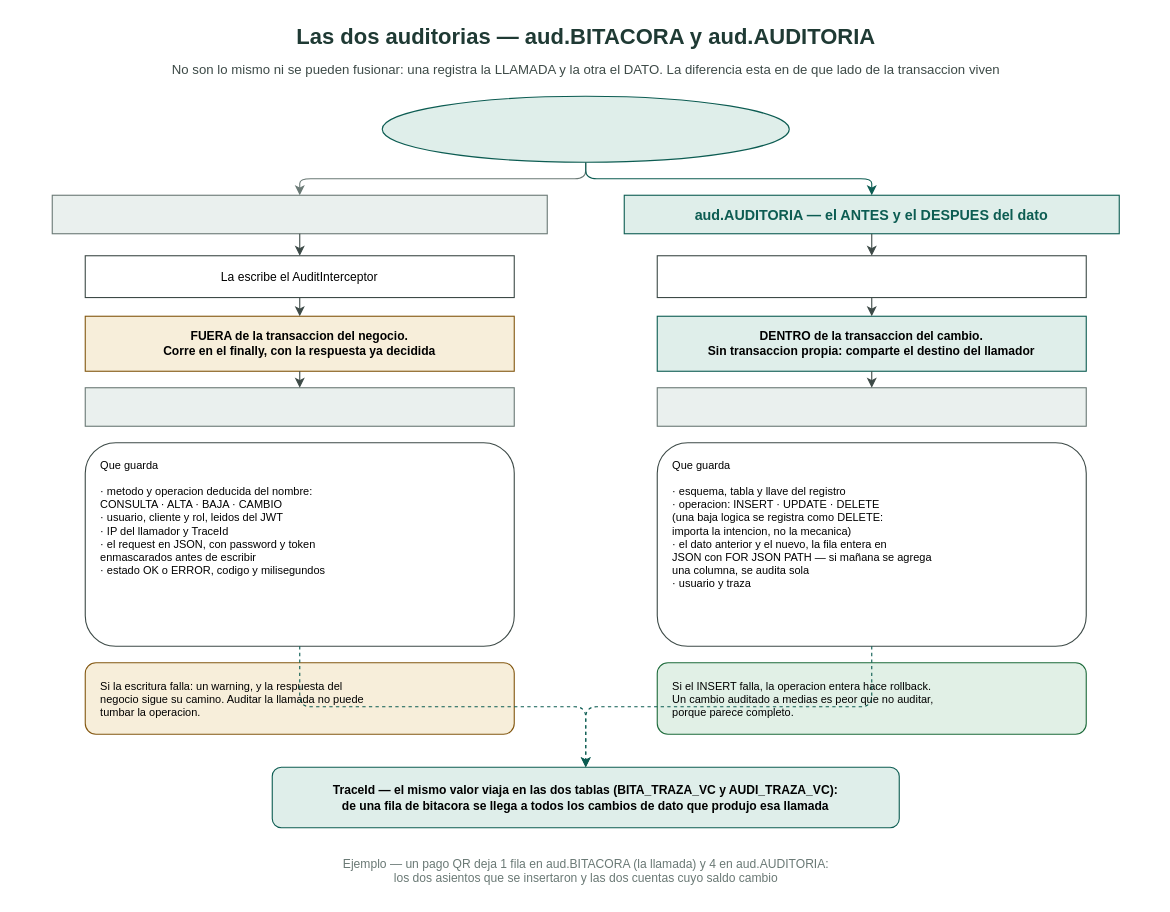
This 1170x912 diagram has some shape labels left out. The shapes that lost their labels are listed below. From the top down, each one's centre as x and y in pixels, then its label:
pixel 585 128: Un RPC que escribe ApplyMovement · ExecuteQrPayment · CreateClientAccount
pixel 299 214: aud.BITACORA — la traza de la LLAMADA
pixel 871 276: La escriben los stored procedures de negocio, nunca la aplicacion
pixel 299 406: EXEC aud.INSERT_BITACORA
pixel 871 406: EXEC aud.REGISTRAR_AUDITORIA
